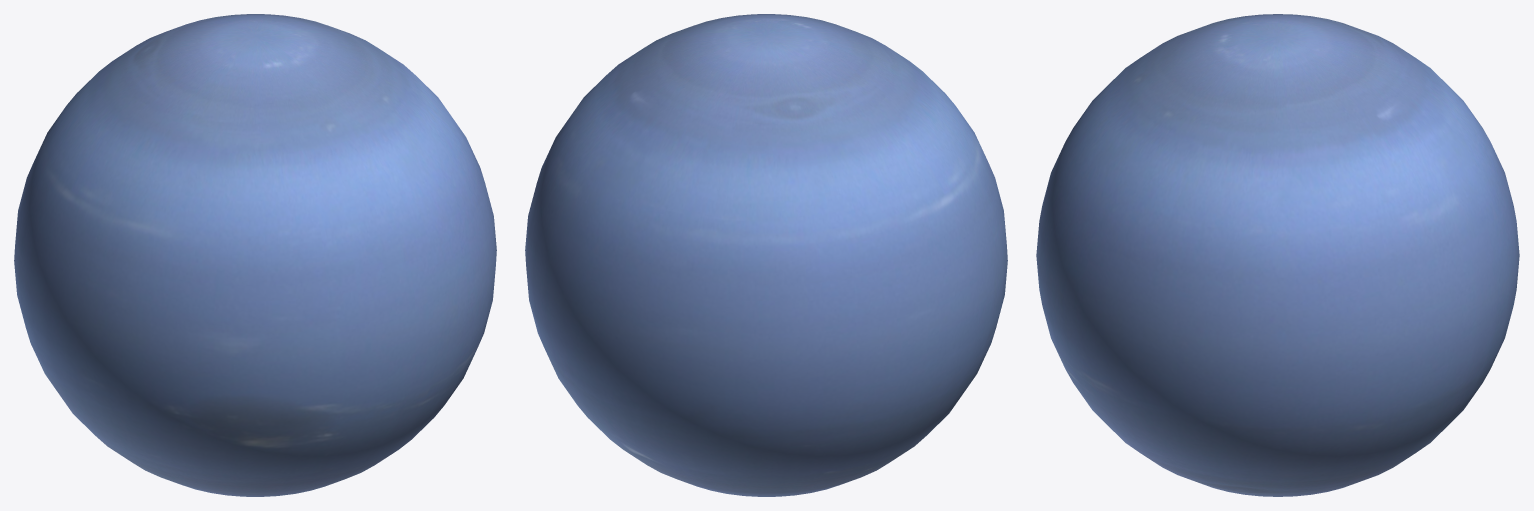
The model's file is Neptune.FBX.
3 renders of one model, left to right at view 1: azimuth 30°, elevation 25°; view 2: azimuth 150°, elevation 25°; view 3: azimuth 270°, elevation 25°, orthographic.
Visible parts, largest first — view 1: Planet; view 2: Planet; view 3: Planet.
Part boxes in pixels (x1,y1,x2,y2): Planet: (14, 14, 496, 496); Planet: (525, 14, 1007, 496); Planet: (1036, 14, 1519, 496).
Bounding box in the file's own units: 34 × 34 × 34.
Materials: 1 (1 with a texture image).
